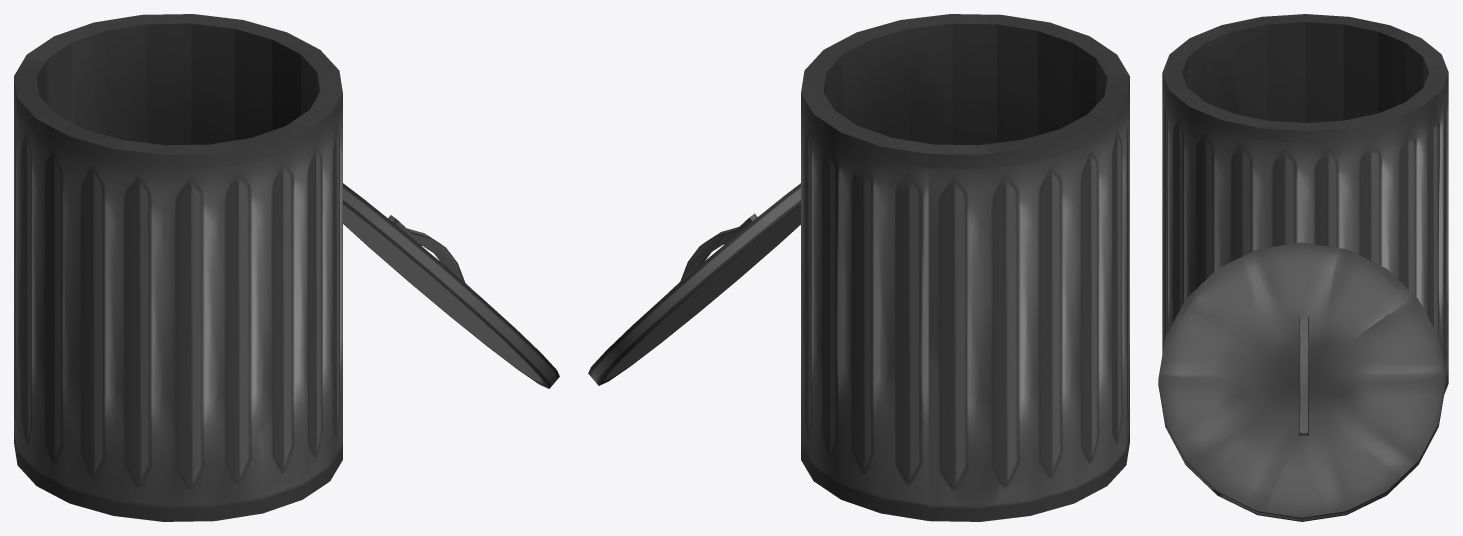
The model's file is Garbage Bin.fbx.
The picture shows the model from 3 angles, left to right: view 1: azimuth 30°, elevation 25°; view 2: azimuth 150°, elevation 25°; view 3: azimuth 270°, elevation 25°; orthographic projection. The views are drawn at different scales.
Parts seen in each view (by area): view 1: Garbage_Can; view 2: Garbage_Can; view 3: Garbage_Can.
Part boxes in pixels (x1,y1,x2,y2): Garbage_Can: (14, 14, 559, 521); Garbage_Can: (588, 14, 1129, 521); Garbage_Can: (1158, 14, 1448, 521).
Size of the model in its own units: 22.05 by 15.79 by 13.38.
